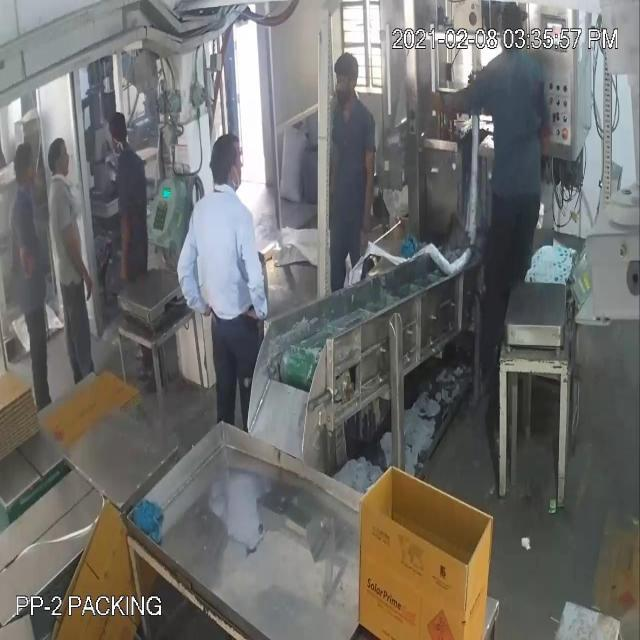No_Gloves: (27, 44, 452, 279)
